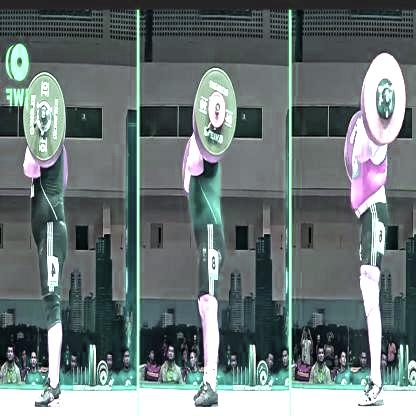Barbell: (372, 78, 394, 122), (205, 90, 226, 135), (34, 96, 53, 137)
